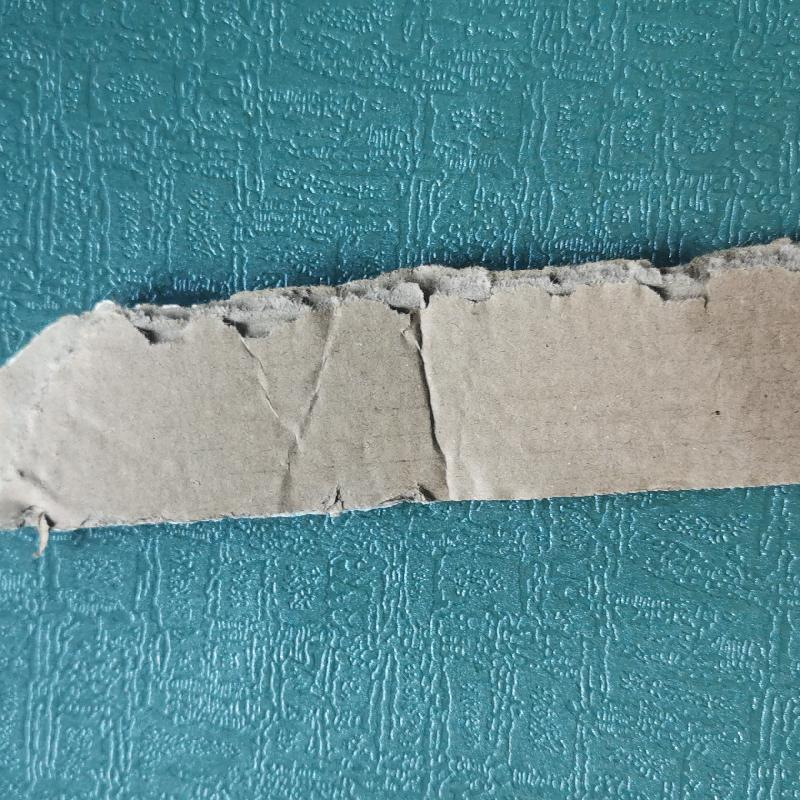boxes: (6, 237, 799, 538)
